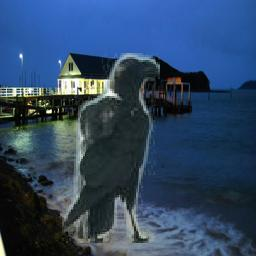Crow: (62, 53, 160, 243)
